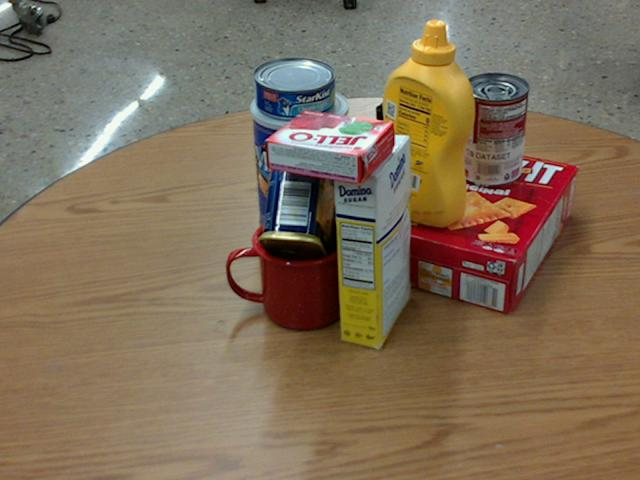cracker_box: (360, 138, 576, 313)
gelatin_box: (263, 109, 395, 185)
large_marker: (374, 104, 390, 203)
master_chef_can: (251, 84, 349, 240)
mug: (223, 212, 347, 330)
mustard_bottle: (376, 20, 475, 227)
potted_meat_can: (258, 148, 336, 267)
sugar_box: (331, 132, 409, 348)
tomato_soup_can: (459, 72, 528, 186)
tuna_fish_can: (253, 57, 335, 118)
